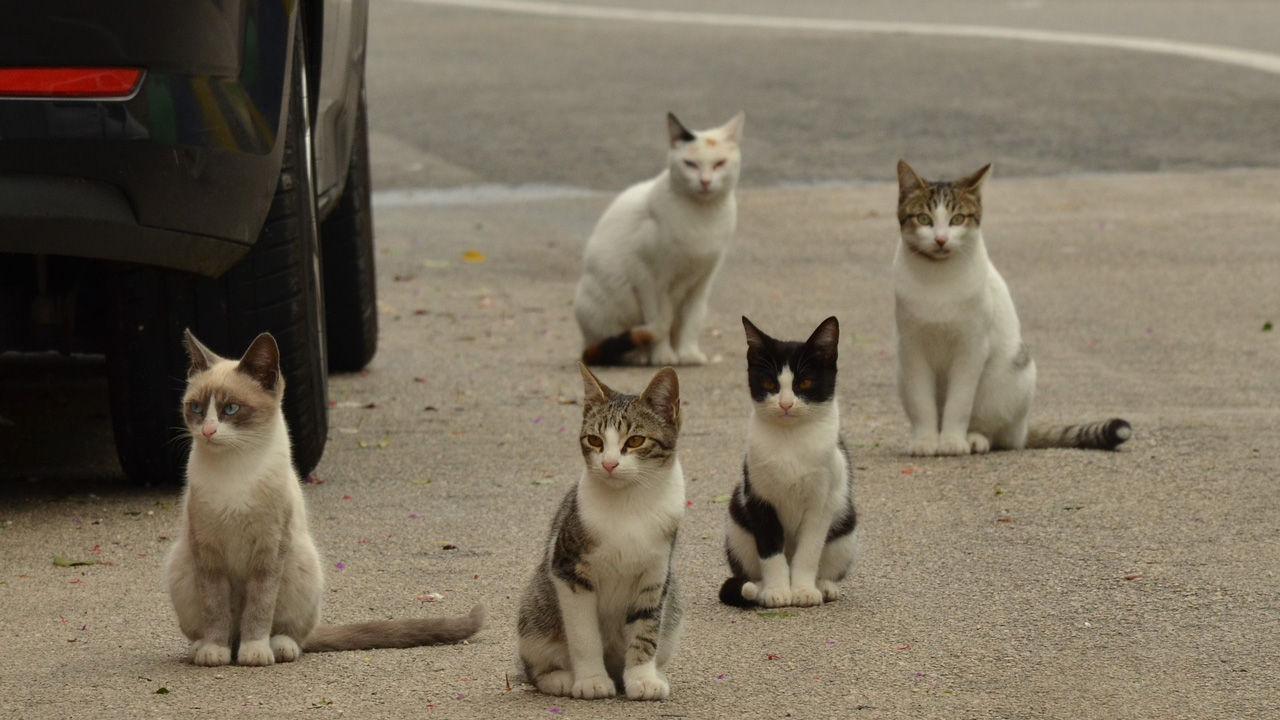cat: (159, 326, 491, 663), (867, 155, 1143, 464), (502, 355, 688, 702), (559, 105, 733, 367), (716, 310, 867, 610)
cat-face: (571, 361, 689, 487), (174, 331, 286, 445), (889, 153, 998, 264), (738, 312, 843, 425), (661, 110, 751, 203)
